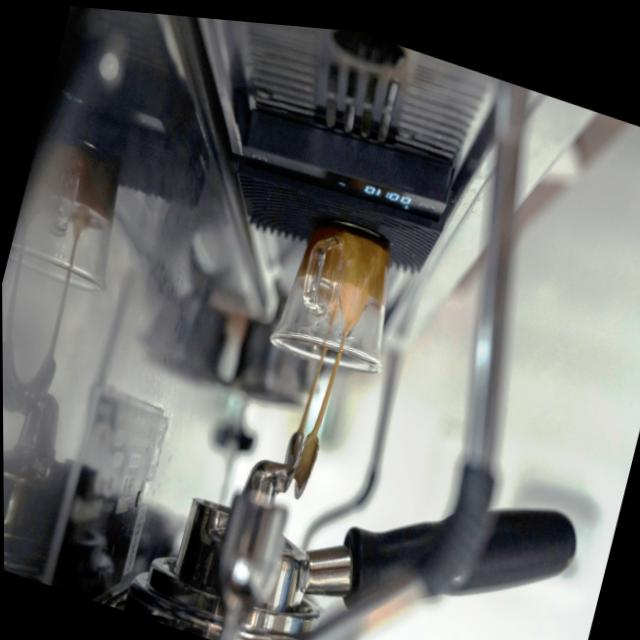drink: (272, 220, 388, 368)
